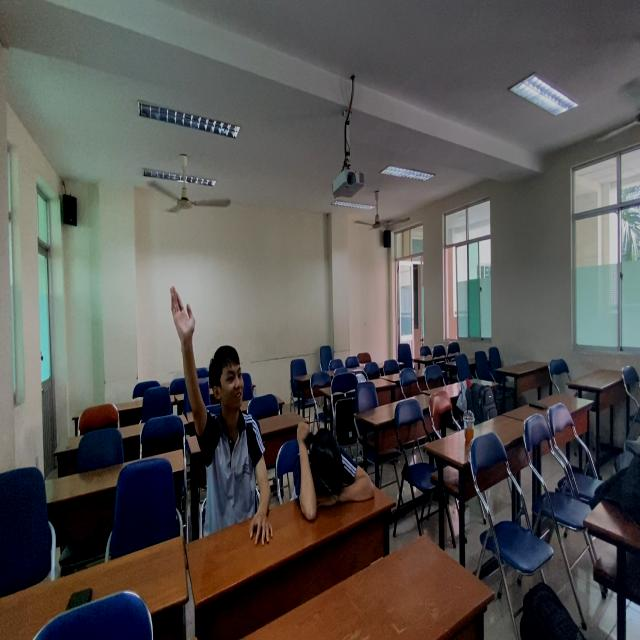raise_hand: (173, 282, 266, 553)
sleep: (284, 423, 384, 524)
